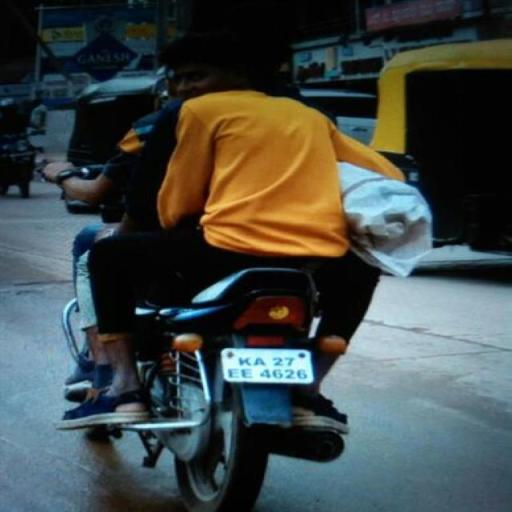tripple riding: (31, 10, 430, 292)
